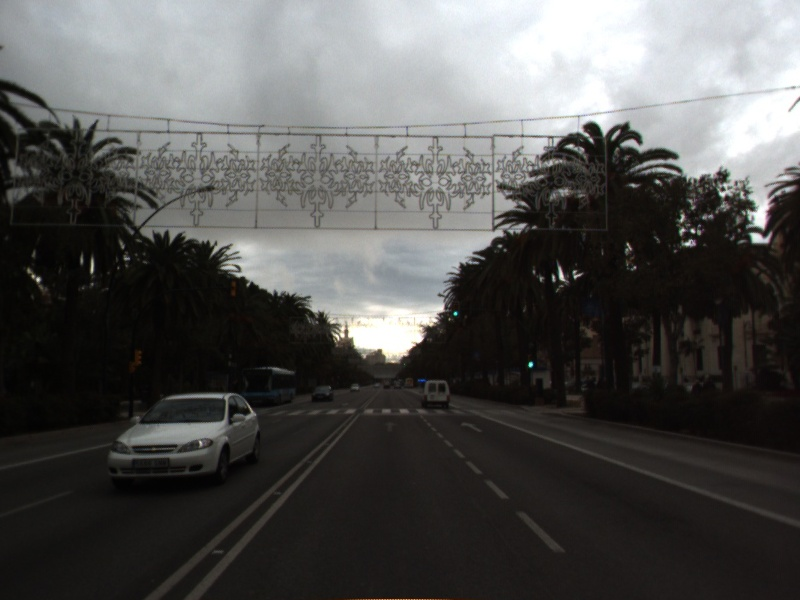STRAIGHT: (458, 419, 484, 434), (381, 419, 400, 435)
